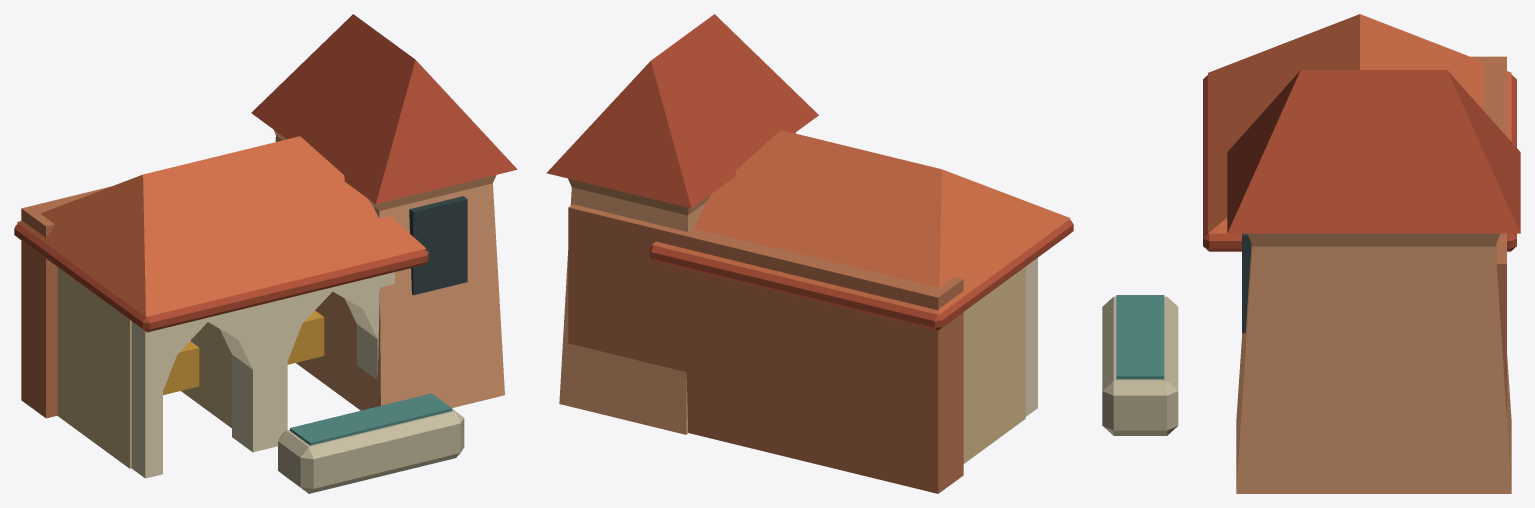
File: ns-stable.glb
The picture shows the model from 3 angles, left to right: view 1: azimuth 30°, elevation 25°; view 2: azimuth 150°, elevation 25°; view 3: azimuth 270°, elevation 25°; orthographic projection. The views are drawn at different scales.
Parts seen in each view (by area): view 1: Cube; view 2: Cube; view 3: Cube.
Part boxes in pixels (x1,y1,x2,y2): Cube: (14,14,517,493); Cube: (546,14,1073,493); Cube: (1102,14,1520,493).
Size of the model in its own units: 0.445 by 0.367 by 0.358.
